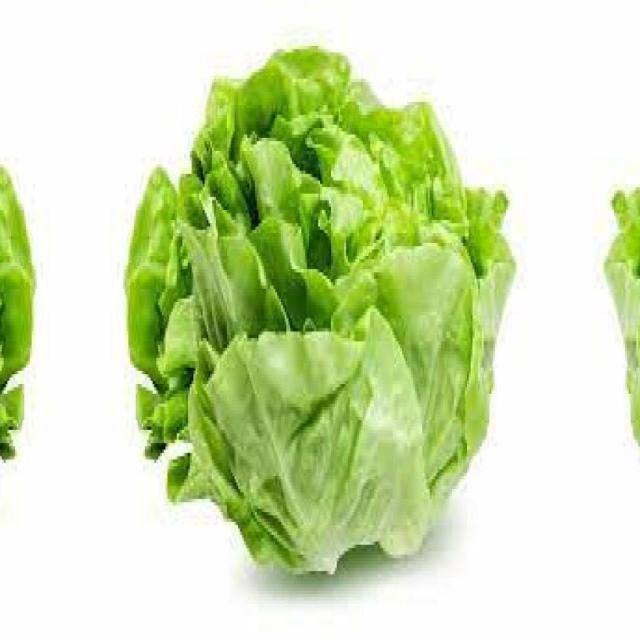healthy: (126, 44, 516, 572), (604, 43, 640, 572), (0, 43, 34, 572)
